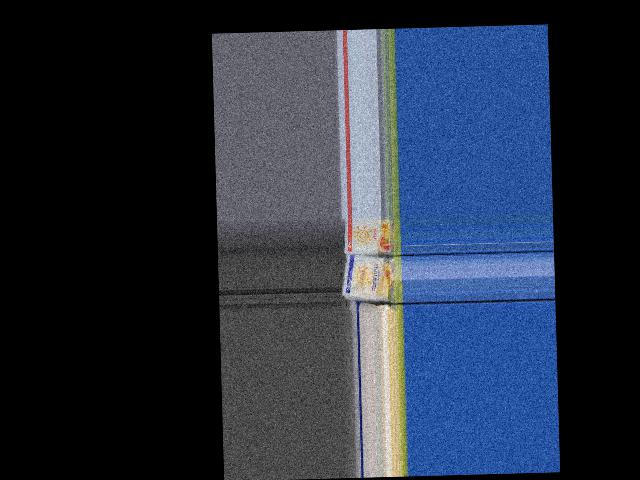cheese: (340, 215, 401, 254)
